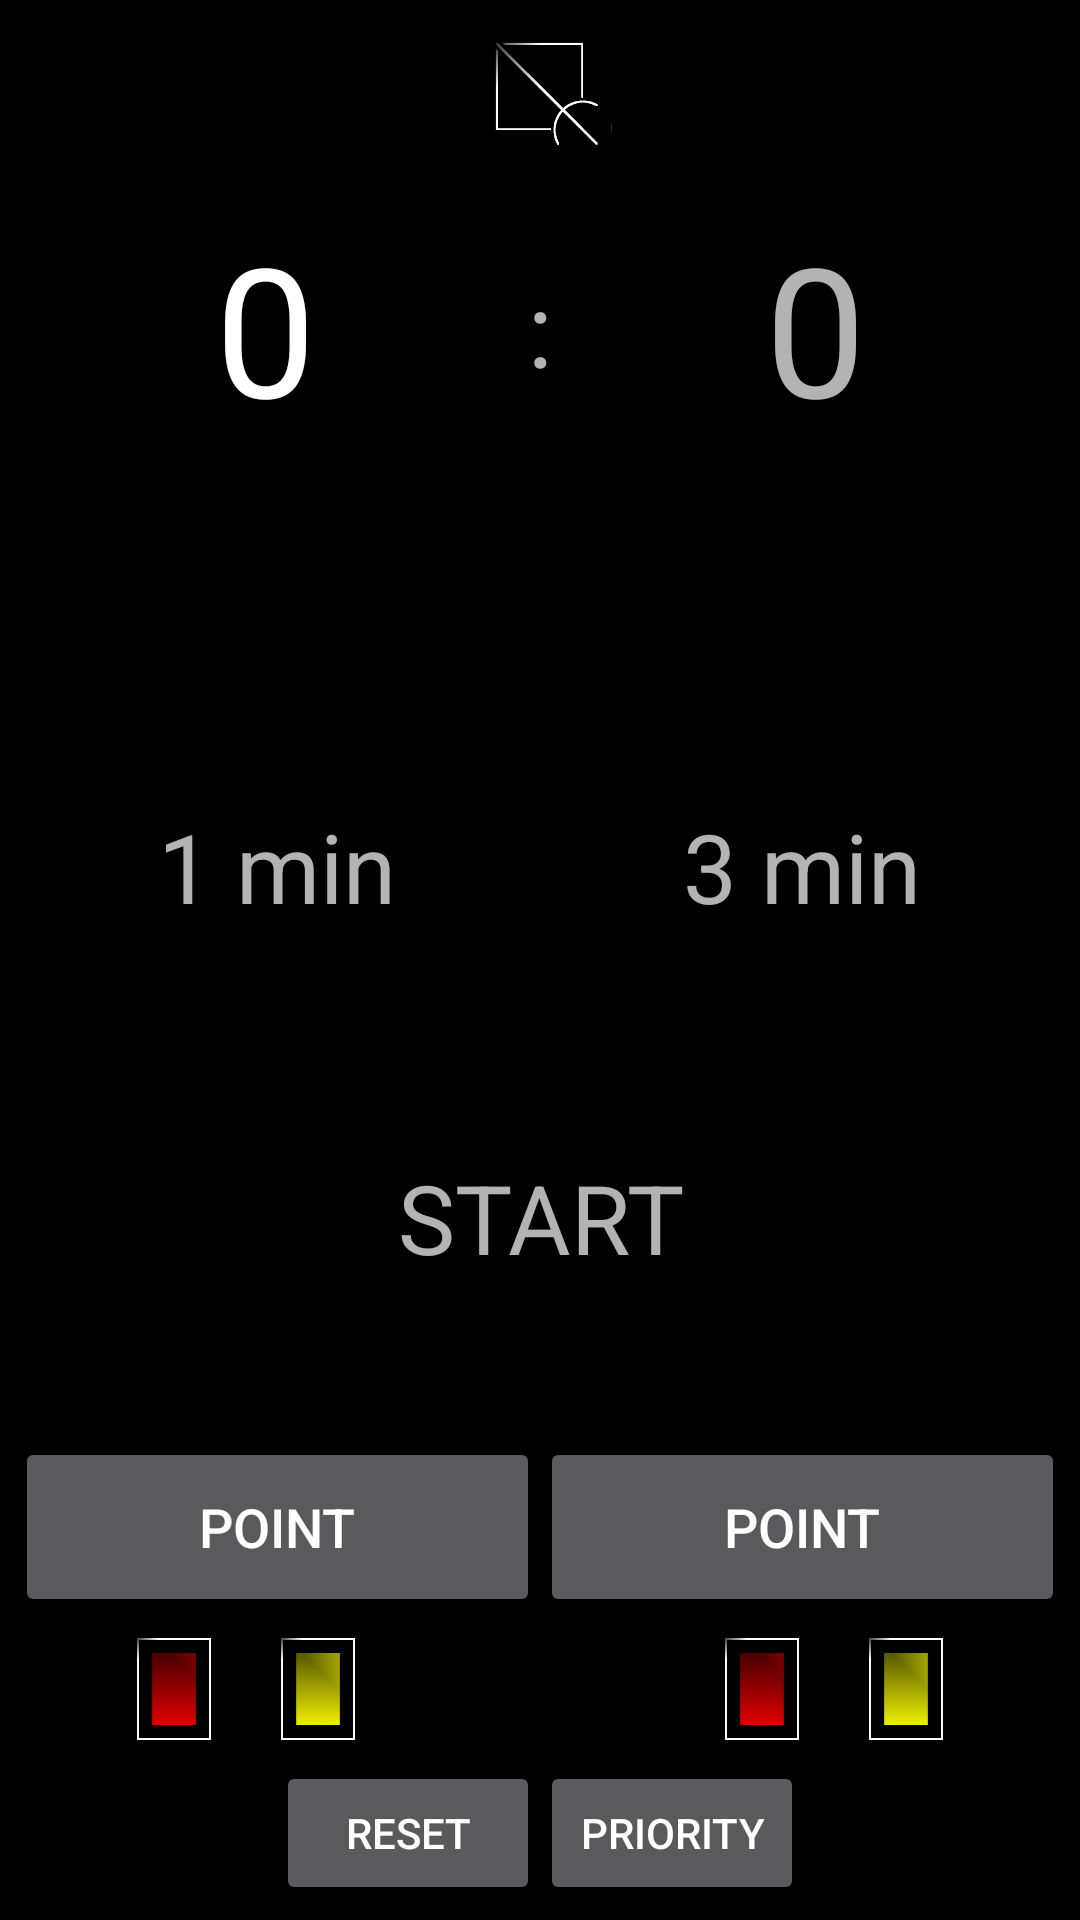

Screen size 1080×1920. Icon name, then its box in pixels as (x1, y1, x2, y2):
card: (137, 1638, 211, 1740), (281, 1638, 355, 1740), (725, 1638, 799, 1740), (869, 1638, 943, 1740)
